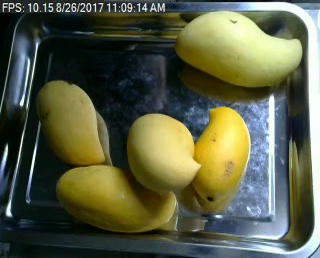Mango: (173, 7, 306, 88), (53, 163, 179, 234), (186, 104, 256, 214), (34, 79, 114, 165), (125, 109, 200, 196)
